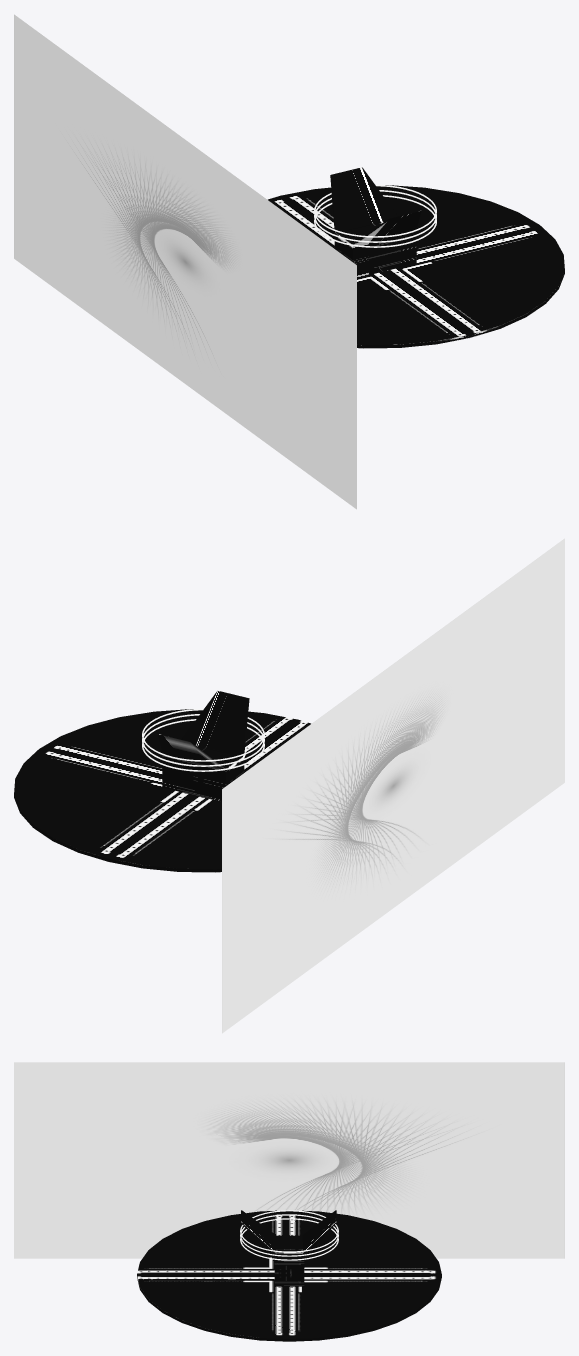
Rendered from TronscendenceMap2.glb.
The picture shows the model from 3 angles, top to bottom: view 1: azimuth 30°, elevation 25°; view 2: azimuth 150°, elevation 25°; view 3: azimuth 270°, elevation 25°; orthographic projection. The views are drawn at different scales.
Parts seen in each view (by area): view 1: Plane.001, Cylinder, Cube; view 2: Plane.001, Cylinder, Cube; view 3: Plane.001, Cylinder, Cube, Torus.002, Torus.001, Torus.
Part boxes in pixels (x1,y1,x2,y2): Plane.001: (14, 14, 356, 509); Cylinder: (268, 185, 564, 348); Cube: (330, 167, 421, 277); Plane.001: (222, 538, 564, 1033); Cylinder: (14, 709, 310, 872); Cube: (158, 690, 249, 801); Plane.001: (14, 1062, 564, 1258); Cylinder: (137, 1210, 441, 1341); Cube: (241, 1210, 336, 1286); Torus.002: (240, 1210, 338, 1252); Torus.001: (240, 1214, 338, 1256); Torus: (240, 1218, 338, 1260).
Bounding box in the file's own units: 22.27 × 14.68 × 37.32.
Materials: 6 (3 with a texture image).
